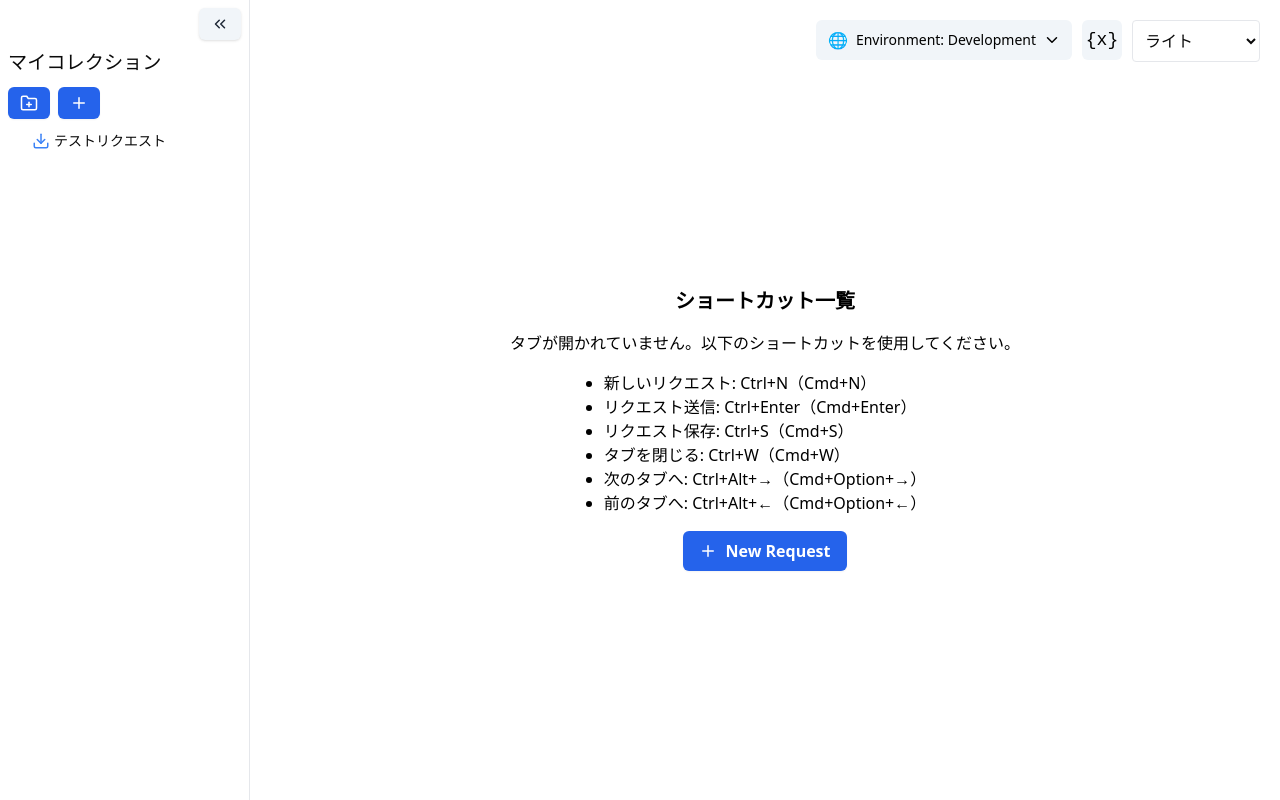
App integration › ショートカットで保存したリクエストがサイドバーに表示される
Click the button named "新しいリクエスト". click: (79, 103)
box: [58, 87, 100, 119]
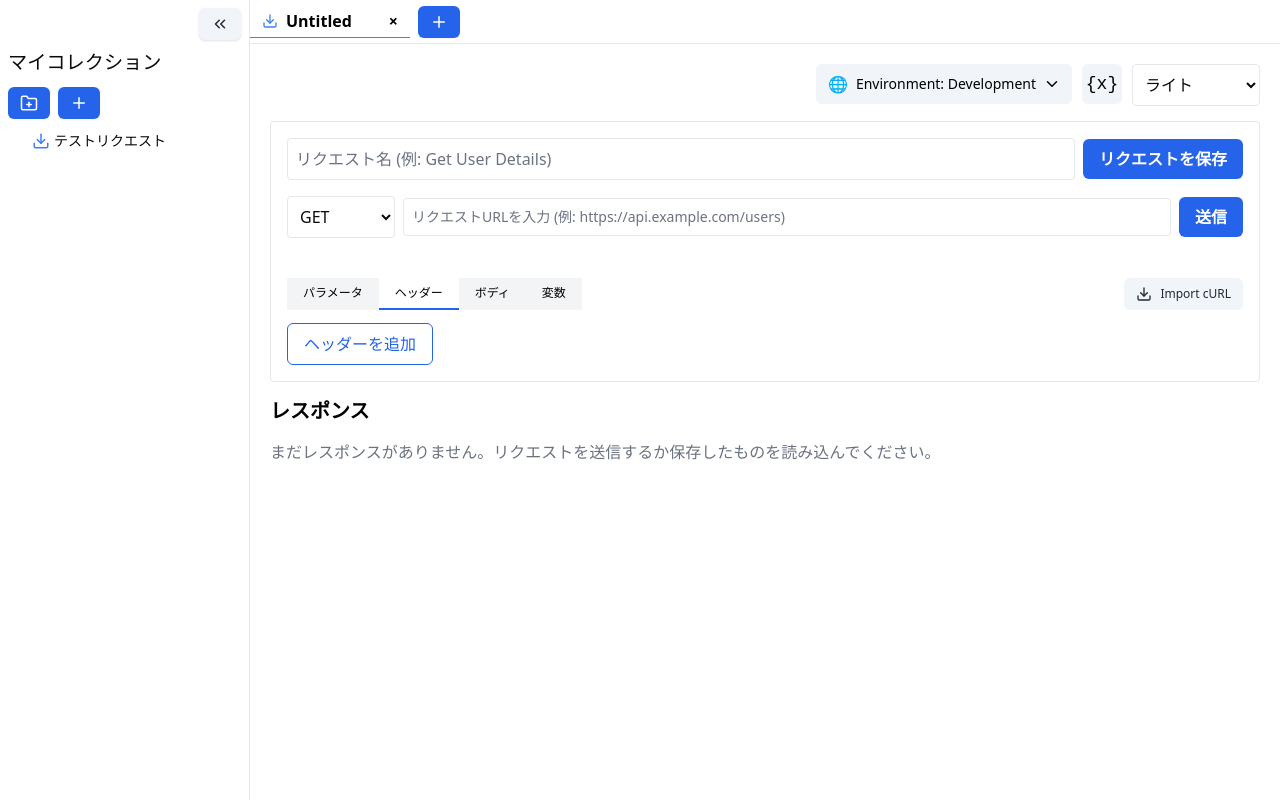
Type "ショートカット保存" into the field with placeholder "リクエスト名 (例: Get User Details)". click: (681, 159)
box: [287, 138, 1075, 180]
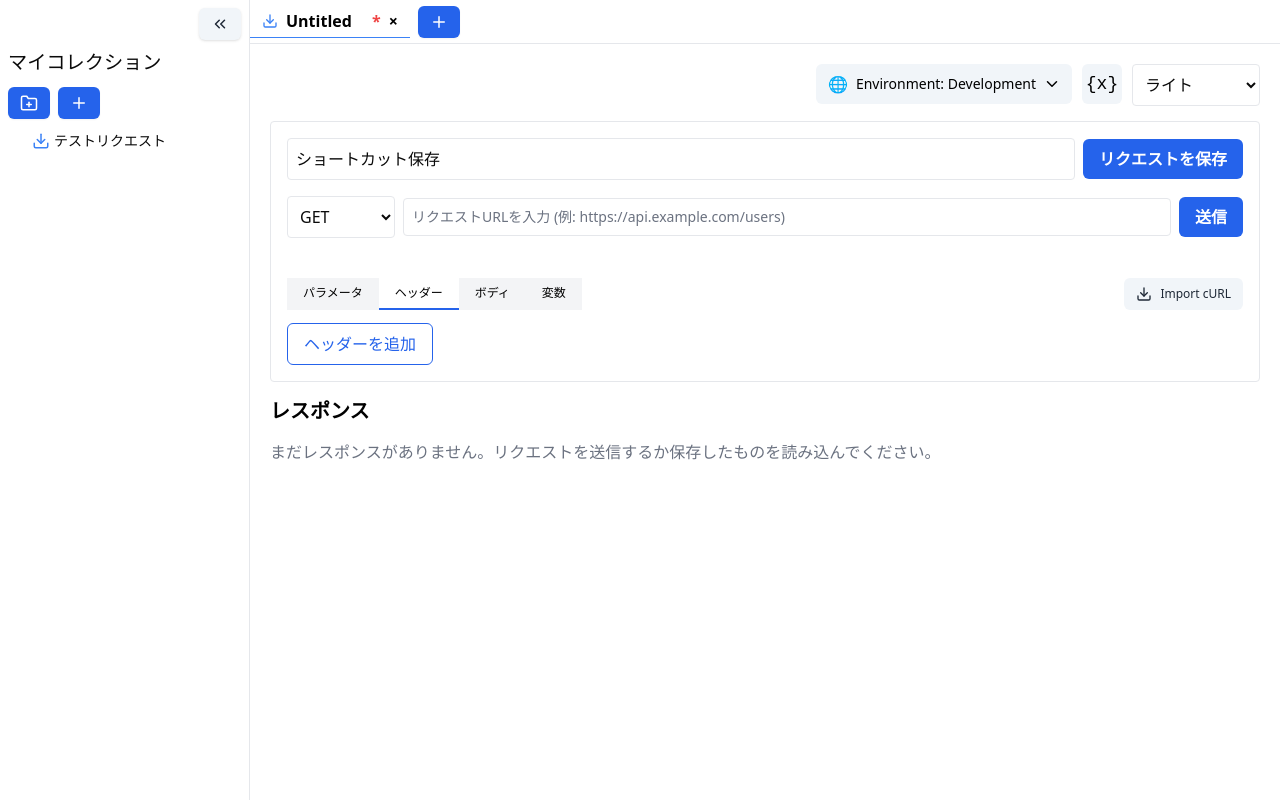
Type "https://example.org" into the field with placeholder "リクエストURLを入力 (例: https://api.example.com/users)". click: (787, 217)
box: [403, 198, 1171, 236]
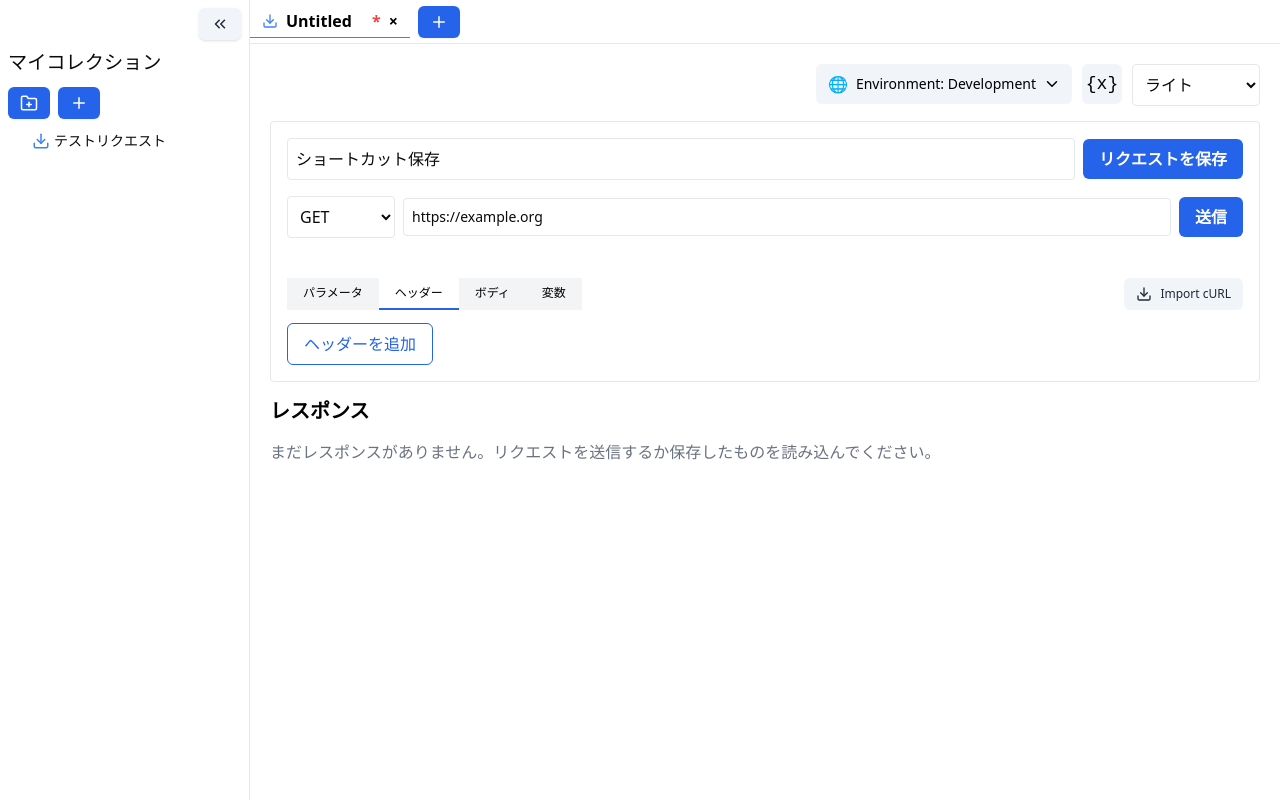
Press s
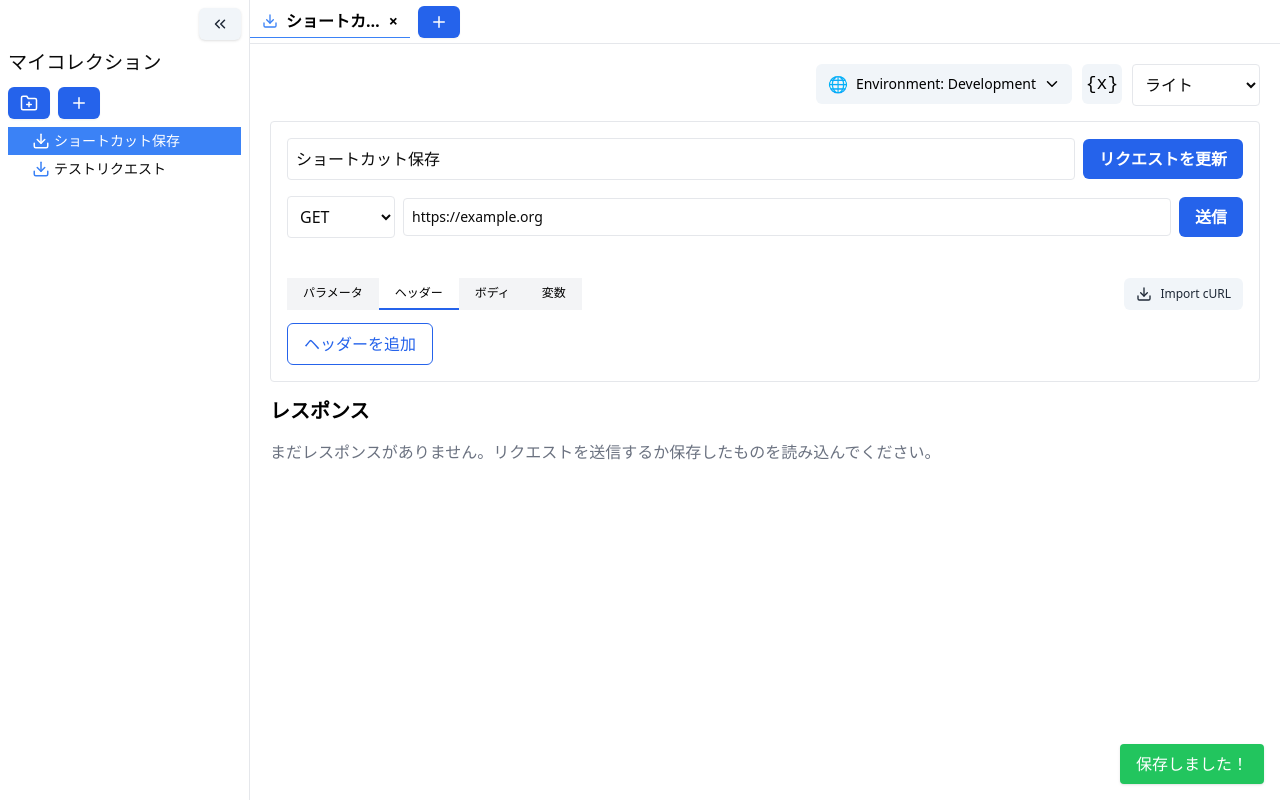
Expected: the text "ショートカット保存" below "マイコレクション" is shown, [54, 131, 180, 150]
